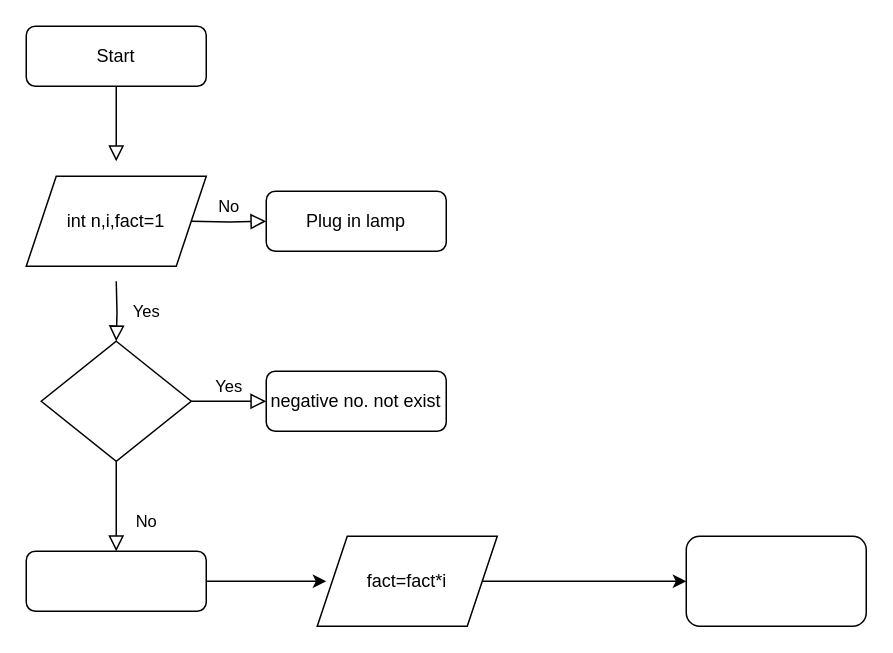
Some shapes in this 893 by 653 pixel diagram are drawn without their labels. Here are the shapes that lost their labels. From the top down, the centre of each, then its label:
At [115,400]: "if n<0".
At [115,580]: "for(int i=1;i<=n;i++".
At [775,580]: "End".
